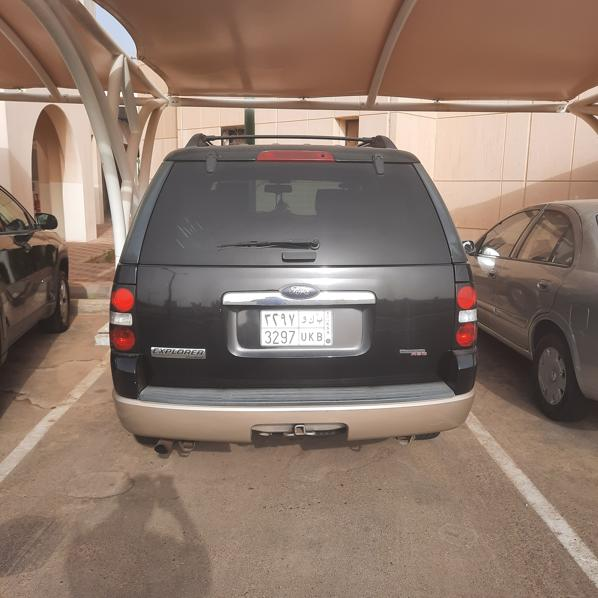numberplate: (260, 310, 332, 346)
